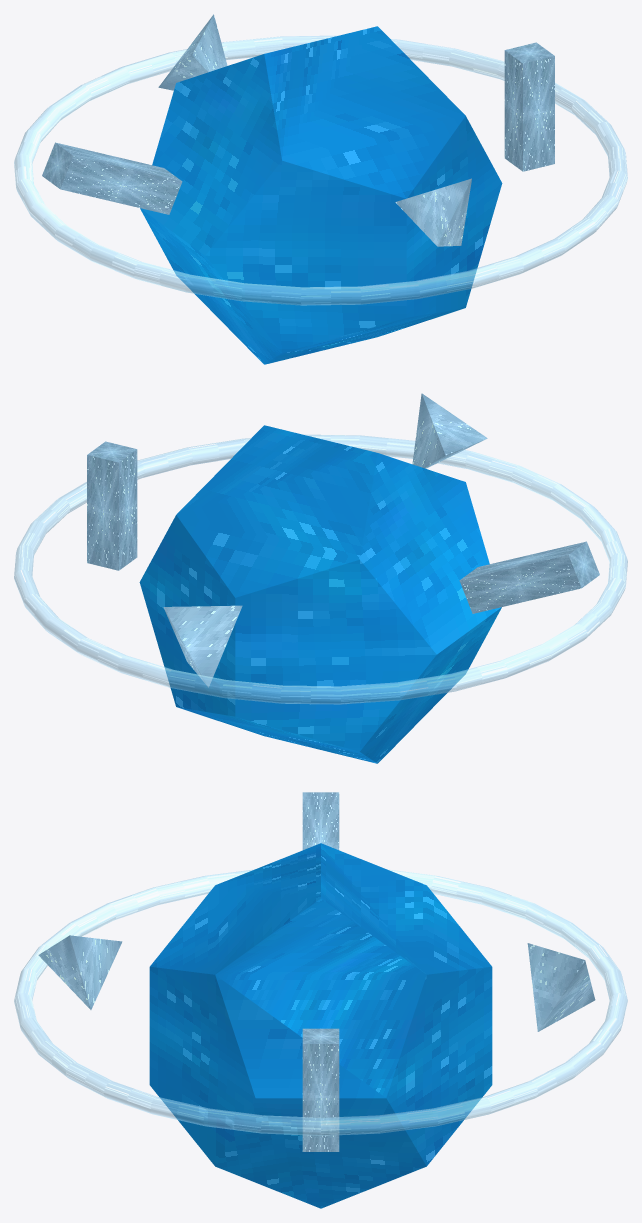
File: anomaly-cluster-cyan.high.glb
The picture shows the model from 3 angles, top to bottom: view 1: azimuth 30°, elevation 25°; view 2: azimuth 150°, elevation 25°; view 3: azimuth 270°, elevation 25°; orthographic projection.
Visible parts, largest first — view 1: shell, ring, orbital-0; view 2: shell, ring, orbital-0; view 3: shell, ring, orbital-0.
Part boxes in pixels (x1,y1,x2,y2): shell: [140, 26, 502, 364]; ring: [14, 35, 627, 305]; orbital-0: [42, 14, 554, 246]; shell: [139, 425, 501, 763]; ring: [14, 434, 627, 704]; orbital-0: [87, 393, 599, 687]; shell: [149, 843, 492, 1208]; ring: [14, 869, 627, 1135]; orbital-0: [38, 792, 595, 1151].
Size of the model in its own units: 2.7 by 1.49 by 2.68.
3 materials, 3 textured.
